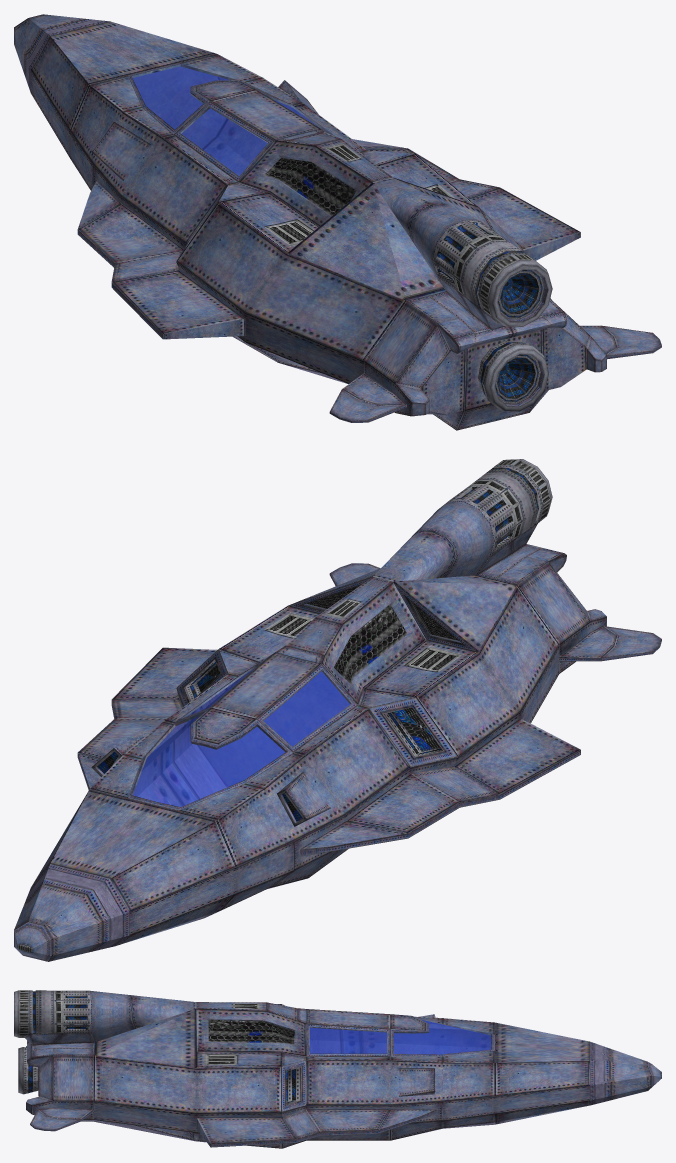
3 views of the same model, one above another, from view 1: azimuth 30°, elevation 25°; view 2: azimuth 150°, elevation 25°; view 3: azimuth 270°, elevation 25° (orthographic). The views are drawn at different scales.
Visible parts, largest first — view 1: CIV2_Cube.002_Cube.003; view 2: CIV2_Cube.002_Cube.003; view 3: CIV2_Cube.002_Cube.003.
Part boxes in pixels (x1,y1,x2,y2): CIV2_Cube.002_Cube.003: (14,14,661,430); CIV2_Cube.002_Cube.003: (14,459,661,961); CIV2_Cube.002_Cube.003: (14,990,661,1148).
Bounding box in the file's own units: 8.14 × 3.57 × 16.79.
Materials: 4 (3 with a texture image).
